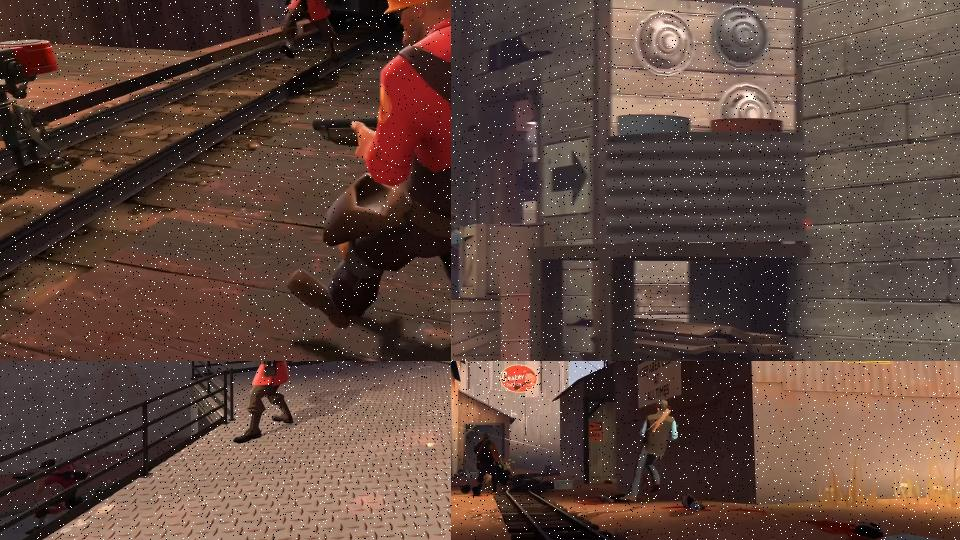Enemy: (283, 0, 451, 361), (192, 361, 298, 443), (612, 399, 679, 504), (11, 458, 102, 534), (270, 0, 343, 64), (470, 431, 514, 496), (451, 203, 463, 303)
